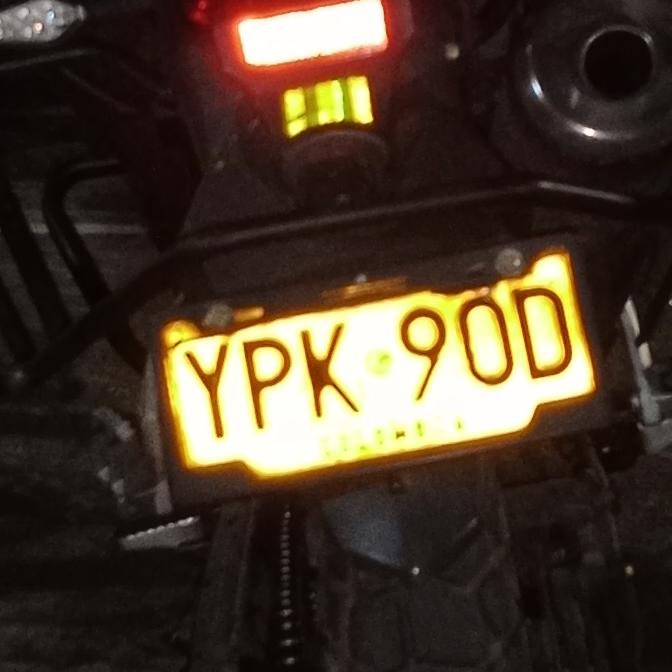plates: (130, 230, 621, 519)
